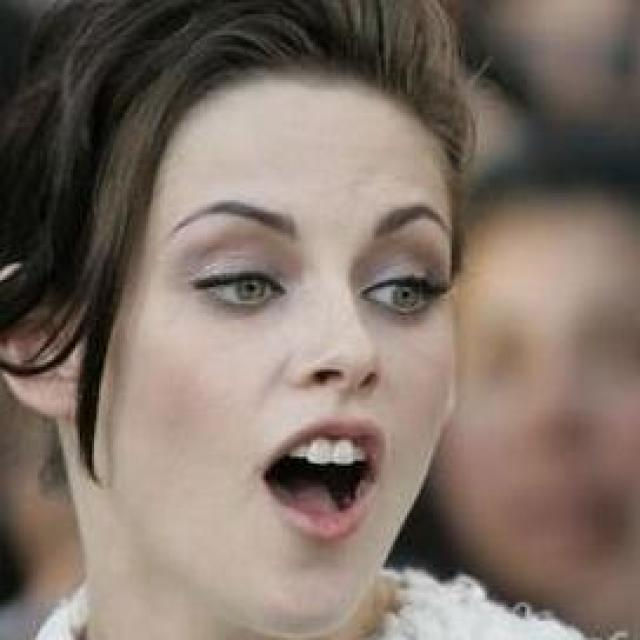surprised: (80, 134, 473, 598)
